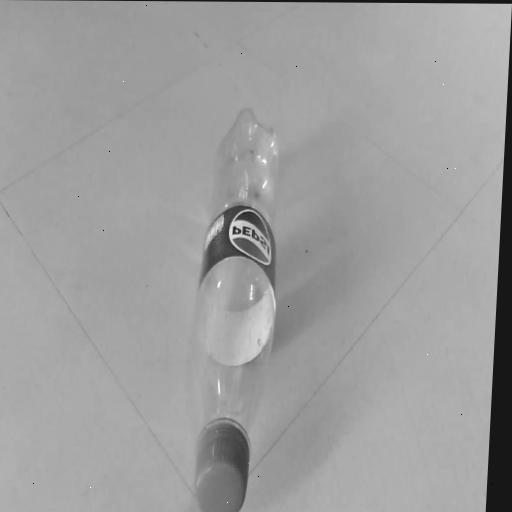bottle: (169, 94, 303, 512)
